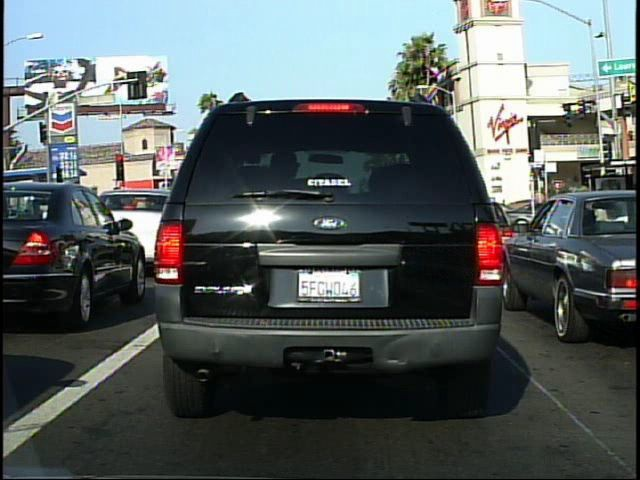person: (590, 183, 612, 247), (498, 195, 513, 226)
